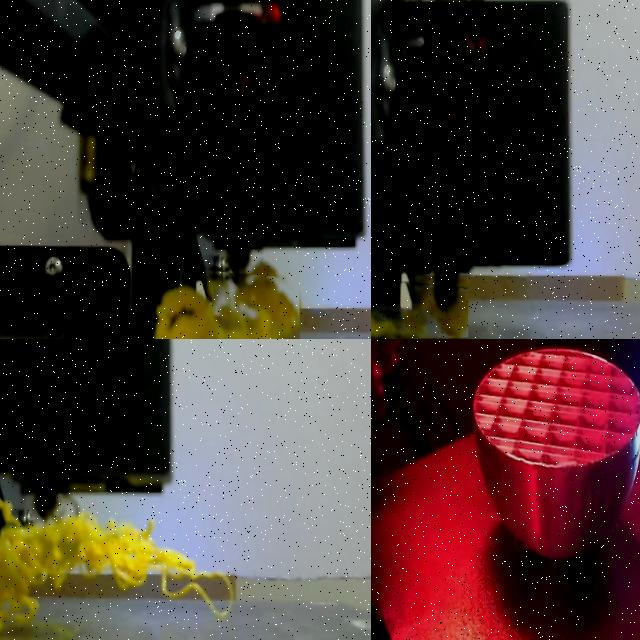spaghetti: (0, 494, 235, 631), (154, 273, 299, 339), (371, 283, 468, 339)
